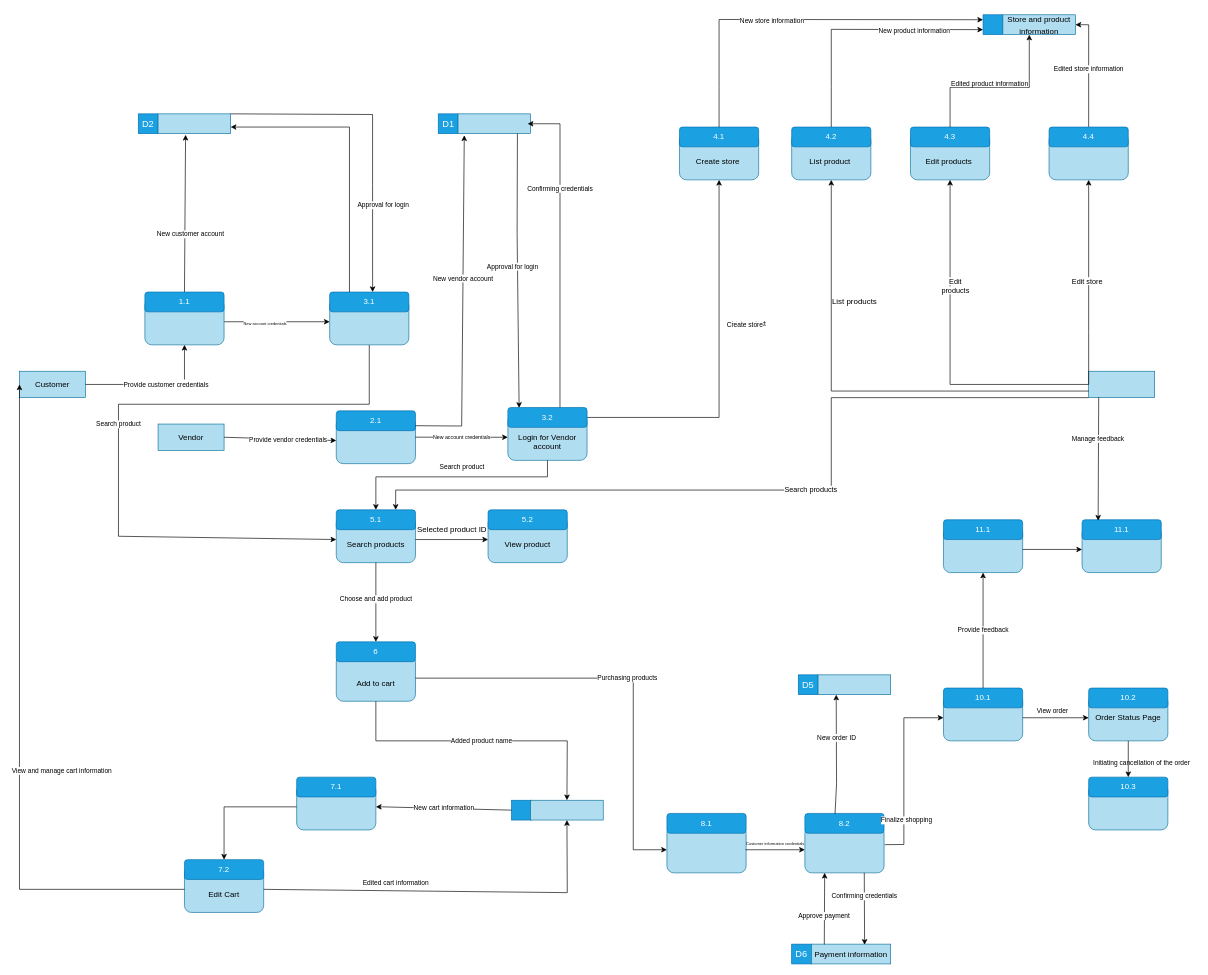
Some shapes in this 1208 by 975 pixel diagram are drawn without their labels. Here are the shapes that lost their labels. From the top down, the box of each, then its label:
(982, 14, 1003, 35): D3
(157, 113, 231, 134): Customer accounts
(457, 113, 531, 134): Vendor accounts
(1048, 133, 1128, 180): Edit store details
(144, 298, 224, 345): Register for customer account
(329, 298, 409, 345): Login for customer account
(1088, 371, 1155, 398): Administrator
(336, 417, 415, 464): Register for vendor account
(943, 526, 1023, 573): Give feedback
(1081, 526, 1161, 573): Edit feedback
(817, 674, 891, 695): Order information
(943, 694, 1023, 741): Complete order
(296, 783, 376, 830): View cart
(511, 800, 531, 820): D4
(530, 800, 603, 820): Cart information
(1088, 783, 1168, 830): Cancel the order
(666, 826, 746, 873): Add customer information
(804, 826, 884, 873): Add payment information
